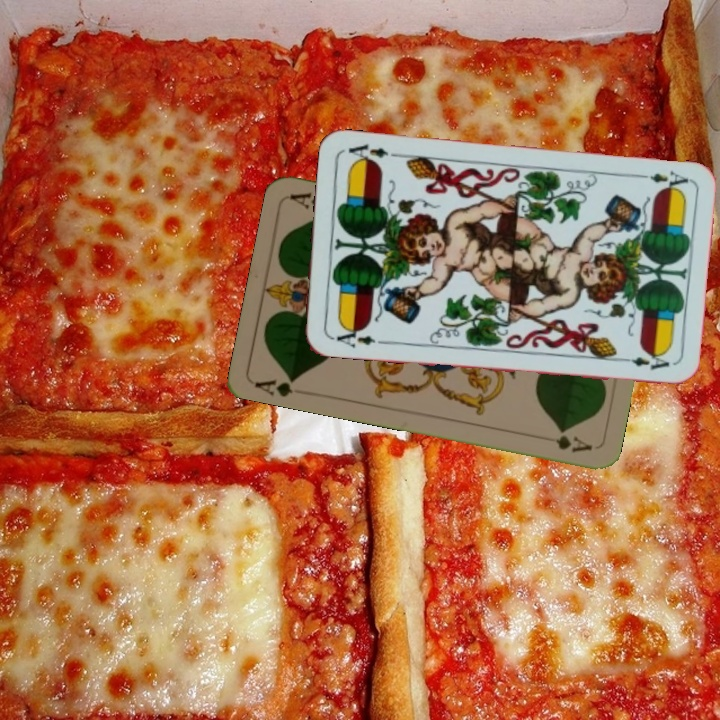EA: (326, 322, 386, 351), (632, 166, 691, 194)
GA: (251, 372, 301, 399)
